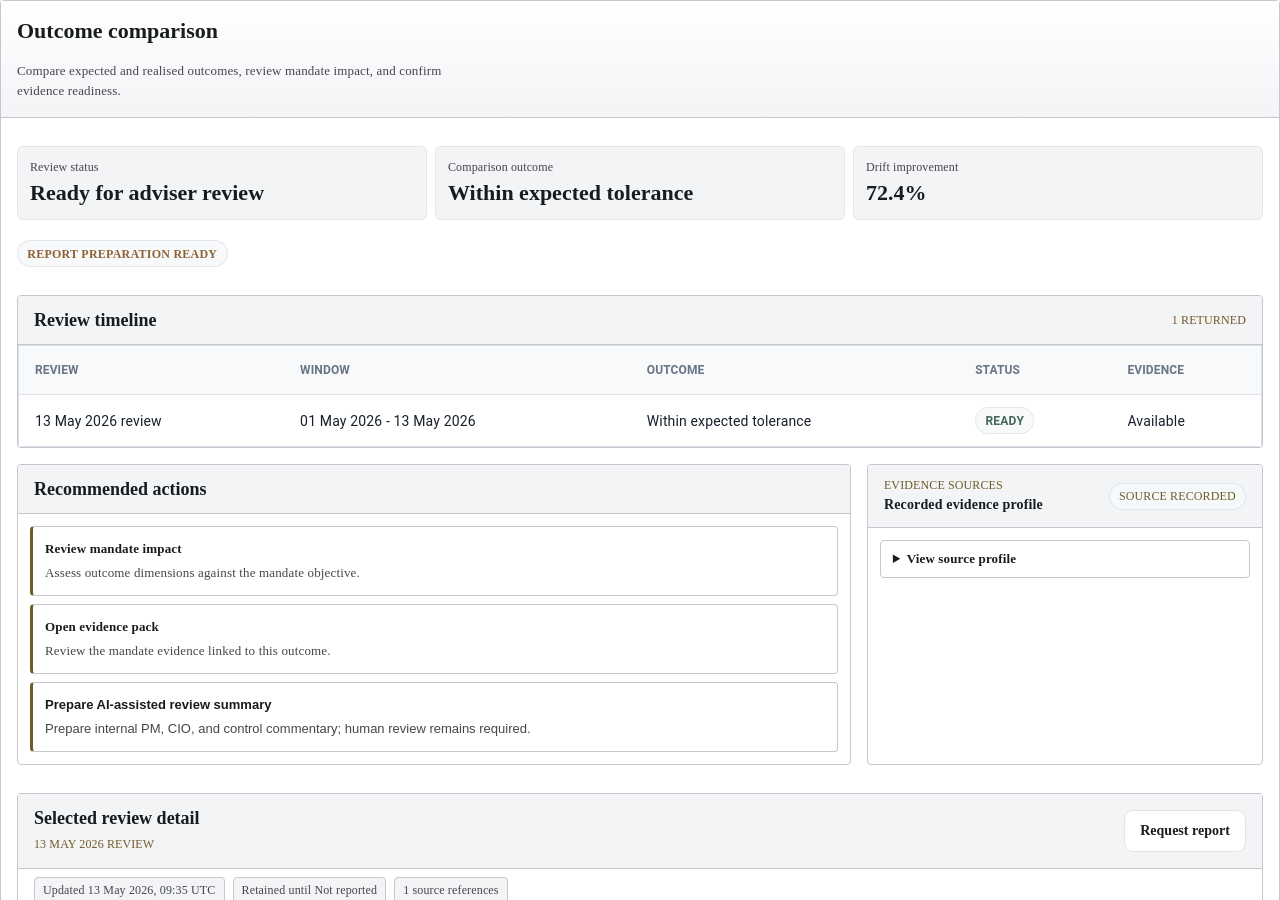
Test case: OutcomeReviewPanel › keeps report and AI handoff run posture visible after both actions
This screenshot has width=1280, height=900.
Click the button "Request report" at (1185, 831), box [1124,810,1246,852]
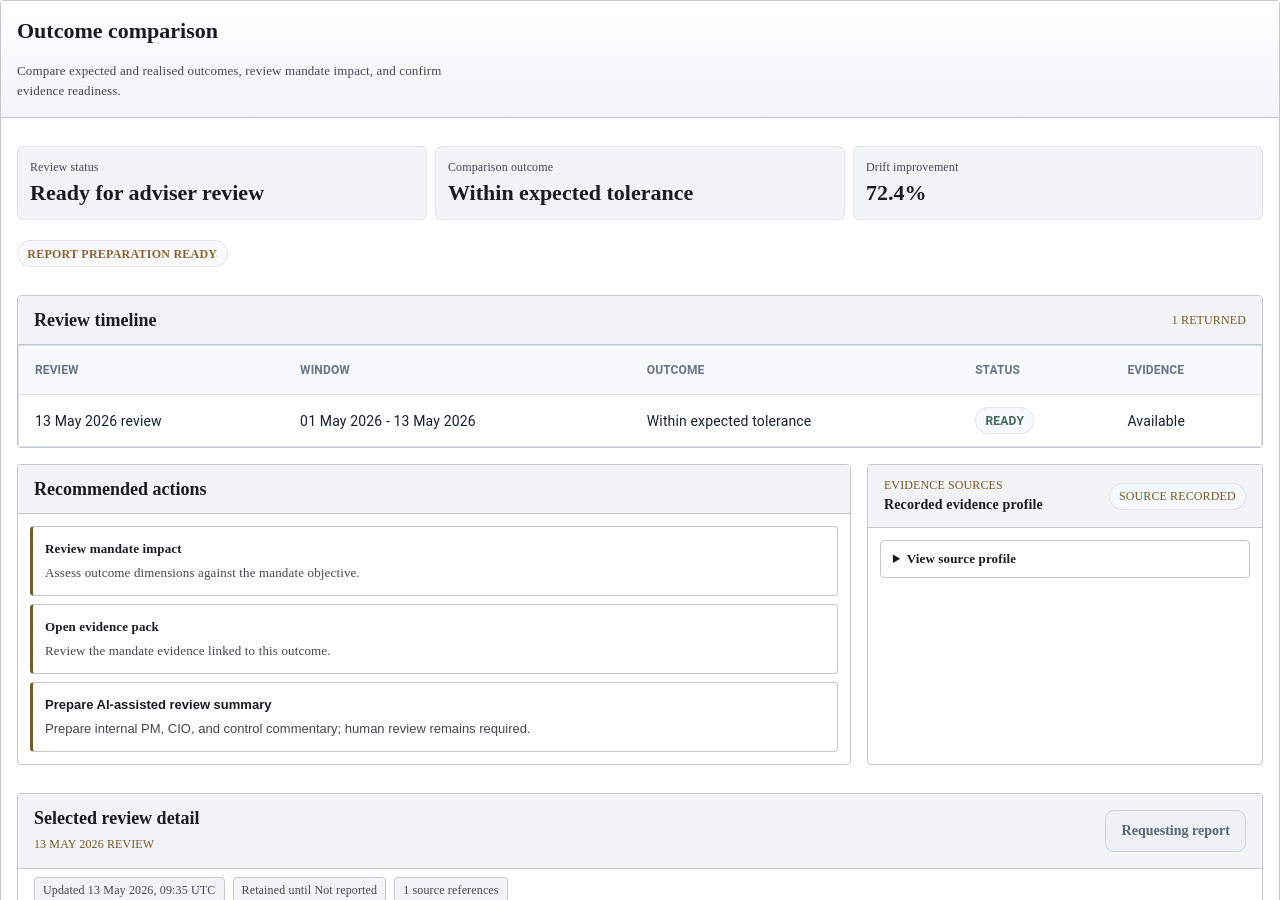
Click the button "Prepare AI-assisted review summary" at (158, 705), box [30,682,838,752]
(page scrolled)
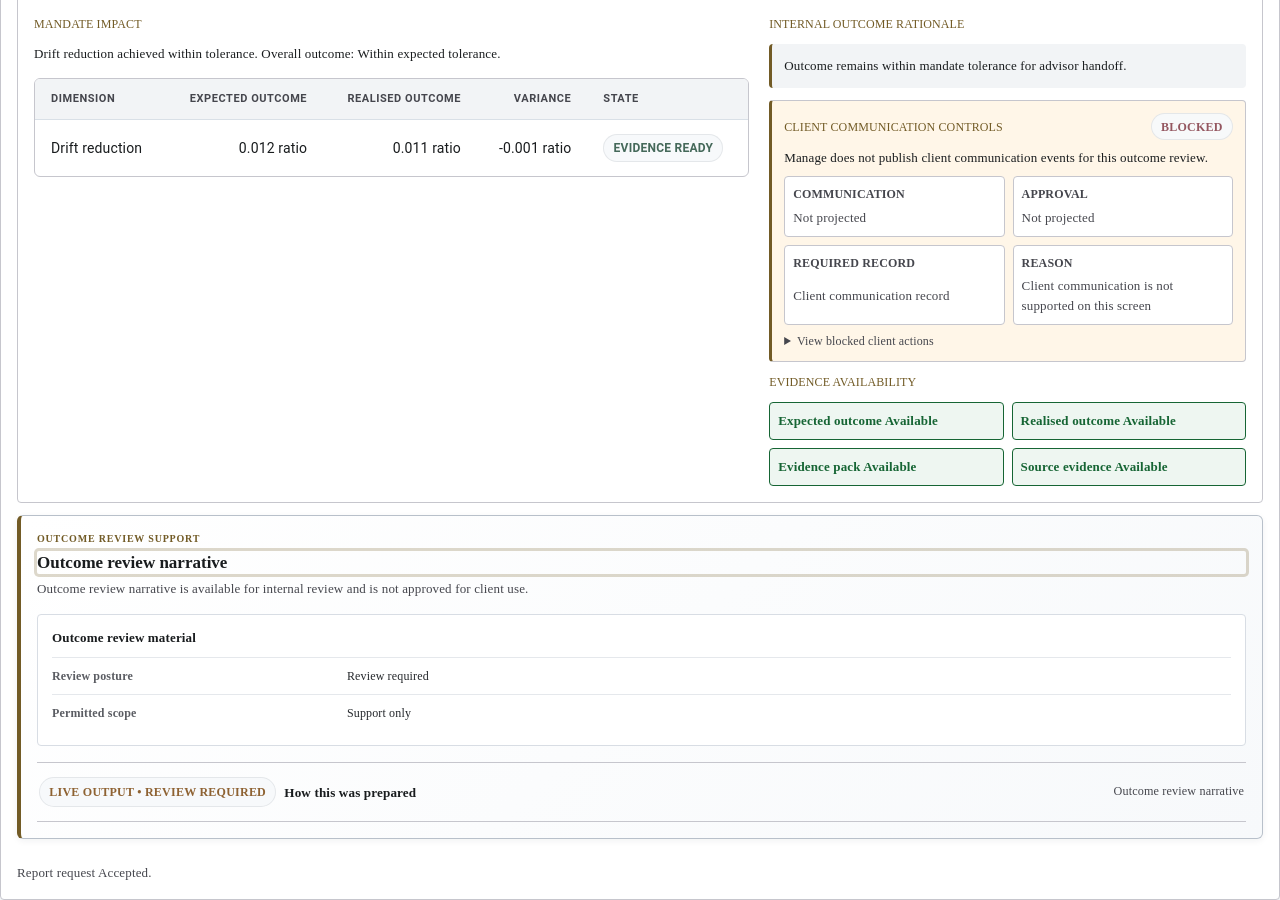
Result: the text "Report request Accepted." is shown at [17,865,152,880]
Result: the heading "Outcome review narrative" is shown at [37,551,1246,574]
Result: the text named "Status Live output • review required" is shown at [39,778,276,807]
